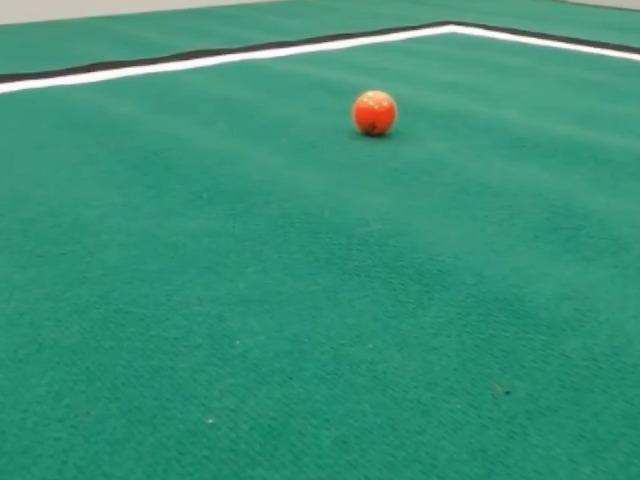Ball: (352, 90, 396, 136)
